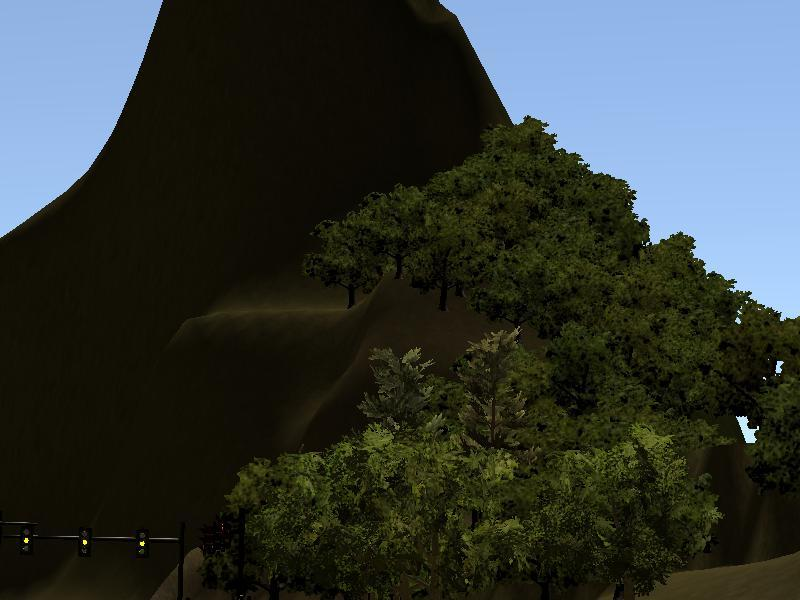Yellow: (135, 528, 149, 559), (78, 528, 92, 558), (20, 524, 32, 555)
